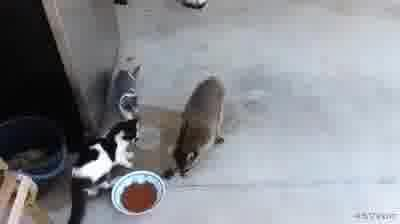raccoon: (173, 76, 228, 175)
